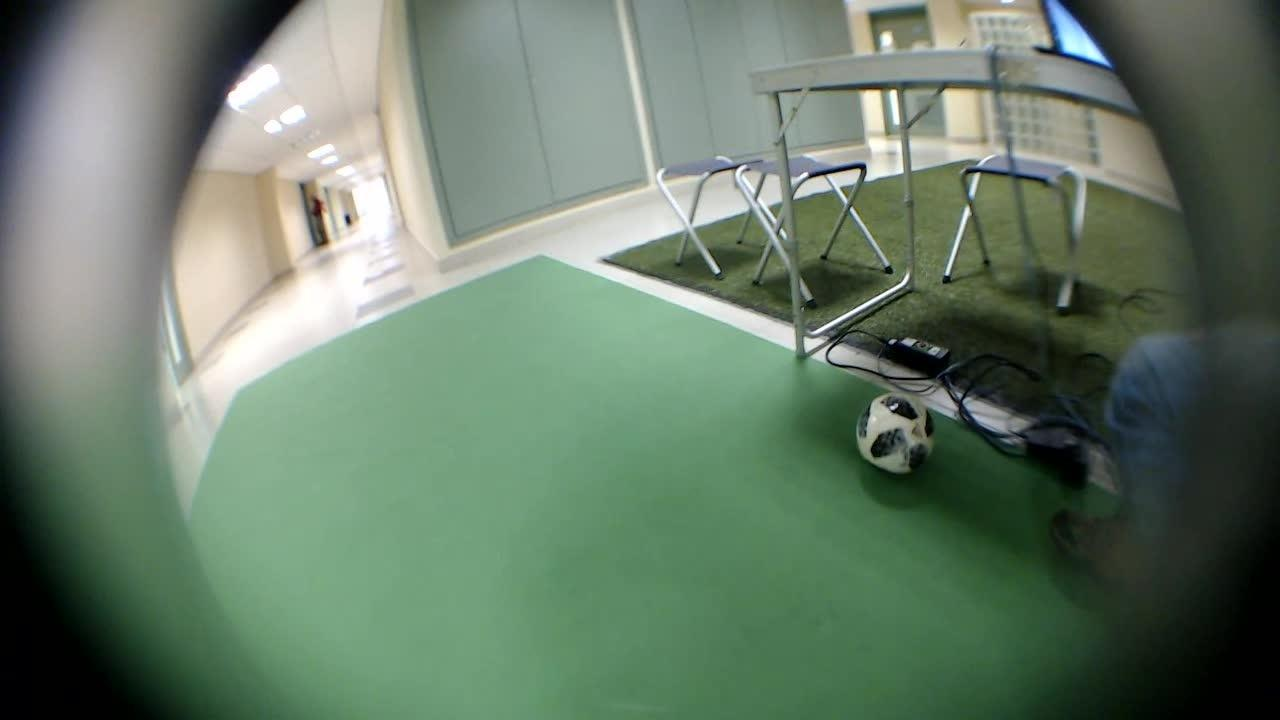ball: (858, 391, 947, 476)
